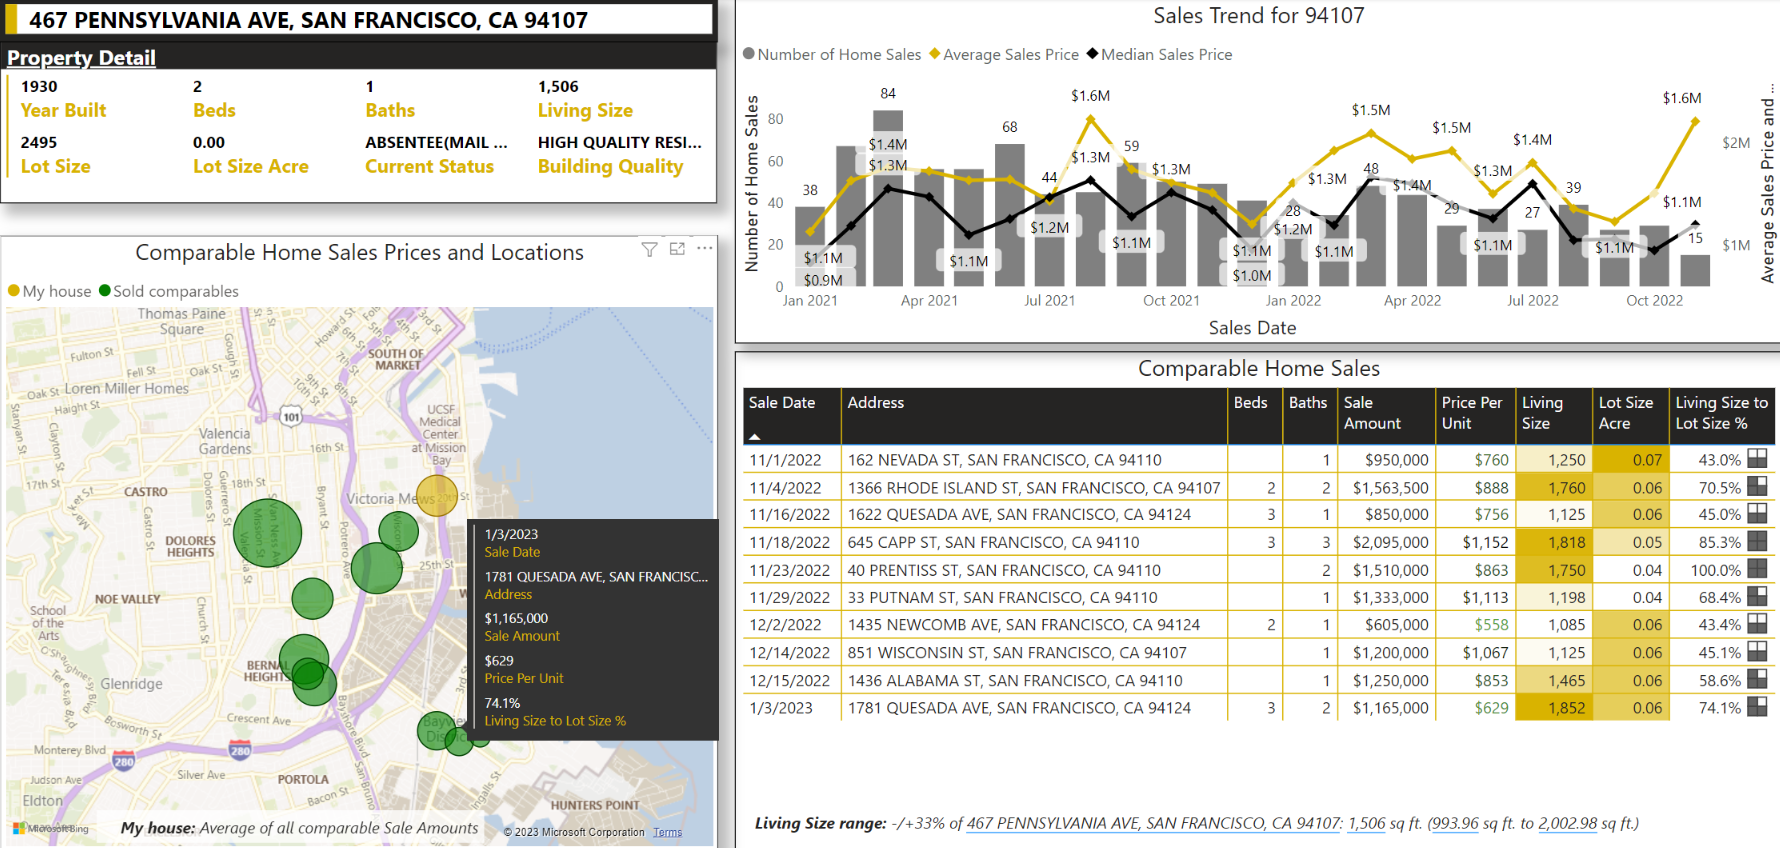

This screenshot's page, from the dashboard's own definition file:
{"tool":"powerbi","page":{"name":"Property Dashboard","canvas":[1500,720],"ordinal":1},"visuals":[{"type":"tableEx","title":"Comparable Home Sales","fields":{"Values":["SalesComp.Sale Date","SalesComp.Address","SalesComp.Beds","SalesComp.Baths","SalesComp.Sale Amount","SalesComp.Price Per Unit","SalesComp.Living Size","SalesComp.lot.lotsize1","SalesComp.Living Size to Lot Size %"]},"box":[619.9,294.5,873.5,417.1],"z":0},{"type":"multiRowCard","fields":{"Values":["PropertyBasic.Address"]},"box":[6.7,0,599,36.7],"z":1000},{"type":"multiRowCard","title":"Property Detail","fields":{"Values":["PropertyBasic.Year Built","PropertyBasic.Beds","PropertyBasic.Baths","PropertyBasic.Living Size","PropertyBasic.Lot Size","PropertyBasic.Lot Size_acres","PropertyBasic.Current Status","PropertyBasic.Building Quality"]},"box":[6.7,35.9,598.2,135.2],"z":2000},{"type":"map","title":"Comparable Home Sales Prices and Locations","fields":{"Y":["SalesComp.Latitude"],"X":["SalesComp.Longitude"],"Size":["SalesComp.Sale Amount"],"Series":["SalesComp.My House"]},"box":[6.7,197.7,599,513.9],"z":3000},{"type":"lineClusteredColumnComboChart","fields":{"Category":["SalesTrend.Sales Date"],"Y":["SalesTrend.Number of Home Sales"],"Y2":["SalesTrend.Average Sales Price","SalesTrend.Median Sales Price"]},"box":[619.9,0,873.5,287.8],"z":4000},{"type":"textbox","box":[631.6,673.3,851,31.7],"z":5000},{"type":"textbox","box":[87.9,677.2,323.5,27.3],"z":6000}]}

Visuals, with their boxes in screenshot pixels (x1, y1, x2, y2), scaled from the page's 1500x720 canvas onto the 1780x848 screenshot:
"Comparable Home Sales" tableEx: 736/347/1772/838
multiRowCard - PropertyBasic.Address: 8/0/719/43
"Property Detail" multiRowCard: 8/42/718/202
"Comparable Home Sales Prices and Locations" map: 8/233/719/838
lineClusteredColumnComboChart - SalesTrend.Sales Date x SalesTrend.Number of Home Sales: 736/0/1772/339
textbox: 749/793/1759/830
textbox: 104/798/488/830
